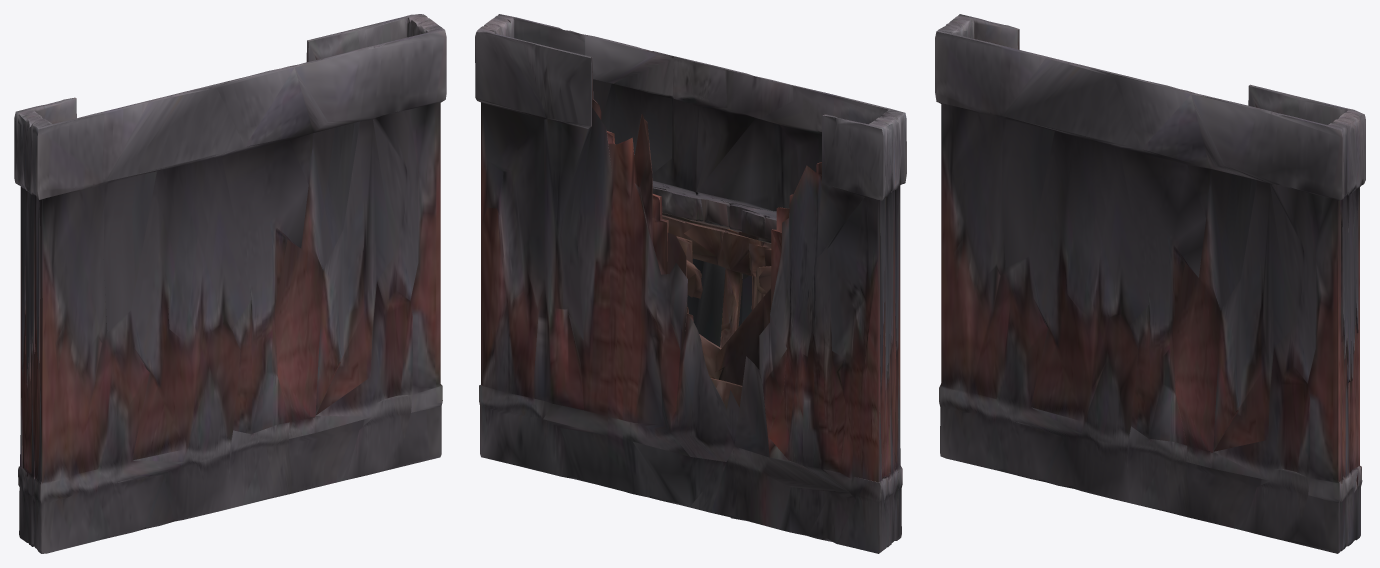
File: finish_brick_ruined_idle.glb
3 renders of one model, left to right at view 1: azimuth 30°, elevation 25°; view 2: azimuth 150°, elevation 25°; view 3: azimuth 330°, elevation 25°, orthographic.
Visible parts, largest first — view 1: tripo_node_24dcf50f-53a1-41e6-9e75-9761c32975aa; view 2: tripo_node_24dcf50f-53a1-41e6-9e75-9761c32975aa; view 3: tripo_node_24dcf50f-53a1-41e6-9e75-9761c32975aa.
Boxes of the visible parts, <box> form: tripo_node_24dcf50f-53a1-41e6-9e75-9761c32975aa: <box>14,14,446,553</box>; tripo_node_24dcf50f-53a1-41e6-9e75-9761c32975aa: <box>475,14,906,553</box>; tripo_node_24dcf50f-53a1-41e6-9e75-9761c32975aa: <box>935,14,1365,553</box>.
Size of the model in its own units: 0.9999 by 0.9997 by 0.0999.
1 material, 1 textured.
